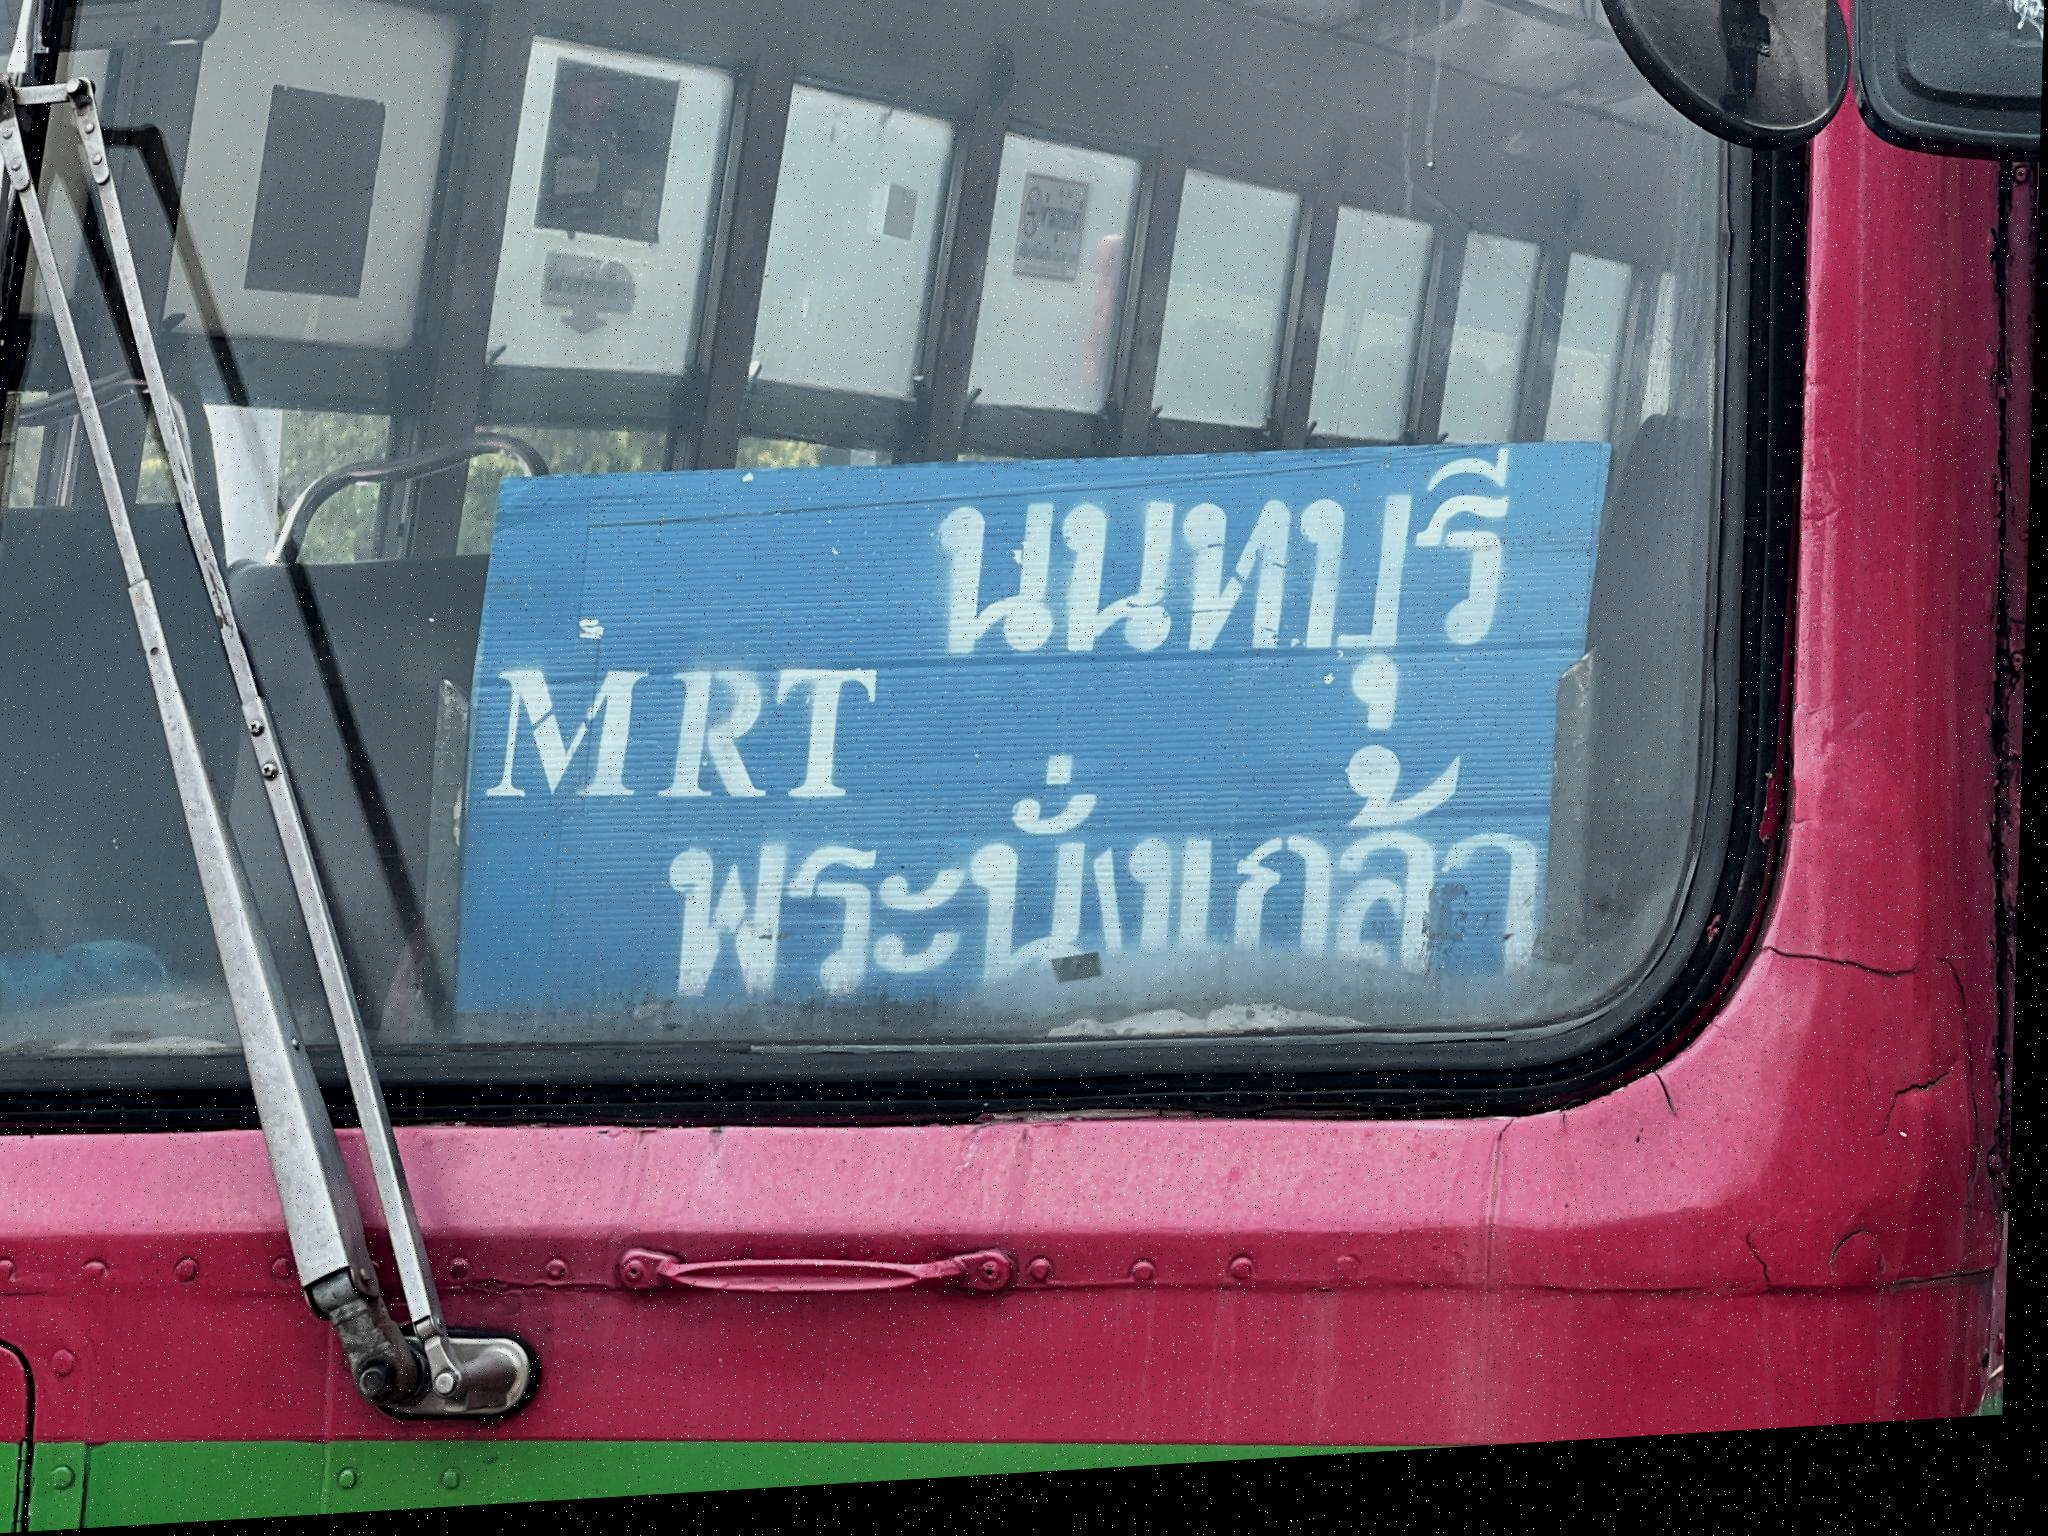BMTA-bus: (0, 0, 2048, 1536)
Destination Sign: (469, 431, 1617, 1062)
